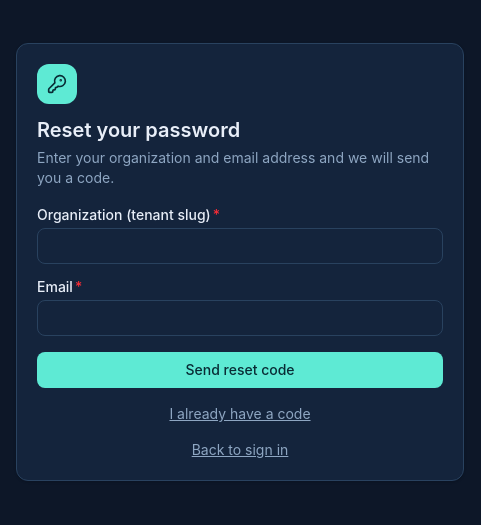
Test: PasswordResetPage › marks the fields as required and blocks an empty request
Click the button "Send reset code": (240, 370) [37,352,443,388]
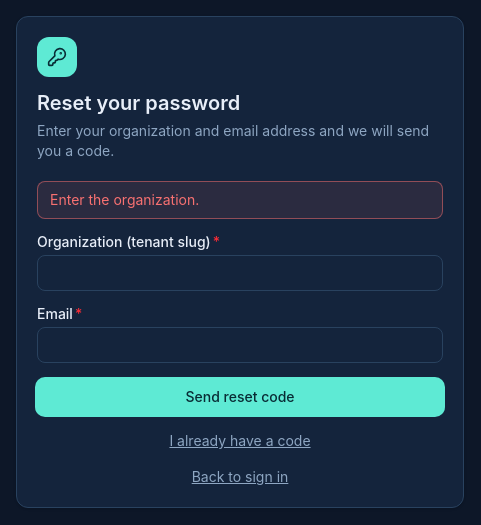
Result: the message reads "Enter the organization." at [50,191,199,208]
